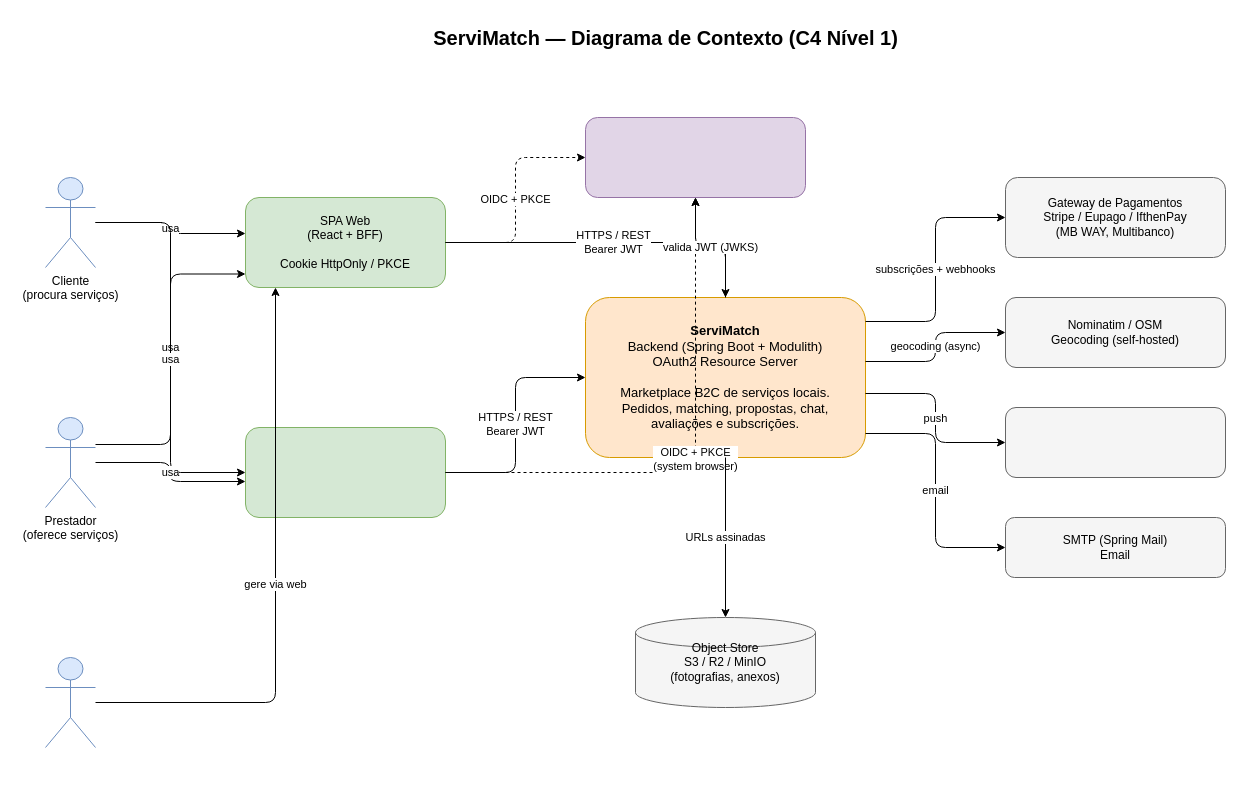
Some shapes in this 1243 by 800 pixel diagram are drawn without their labels. Each missing label, with the centre of its shape:
Administrador (gestão/moderação): [70,702]
App Flutter (iOS + Android) RFC 8252 + Keychain/Keystore: [345,472]
FCM / APNs Push (iOS/Android/Web): [1115,442]
Keycloak (IdP) OAuth2 / OIDC Identidade, MFA, JWKS: [695,157]
